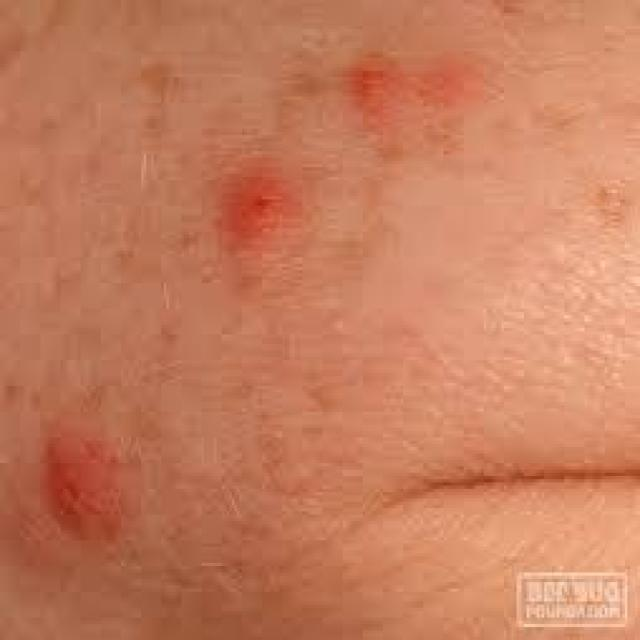kan emici bocekler: (346, 42, 468, 139), (57, 426, 122, 529), (232, 164, 294, 241)
